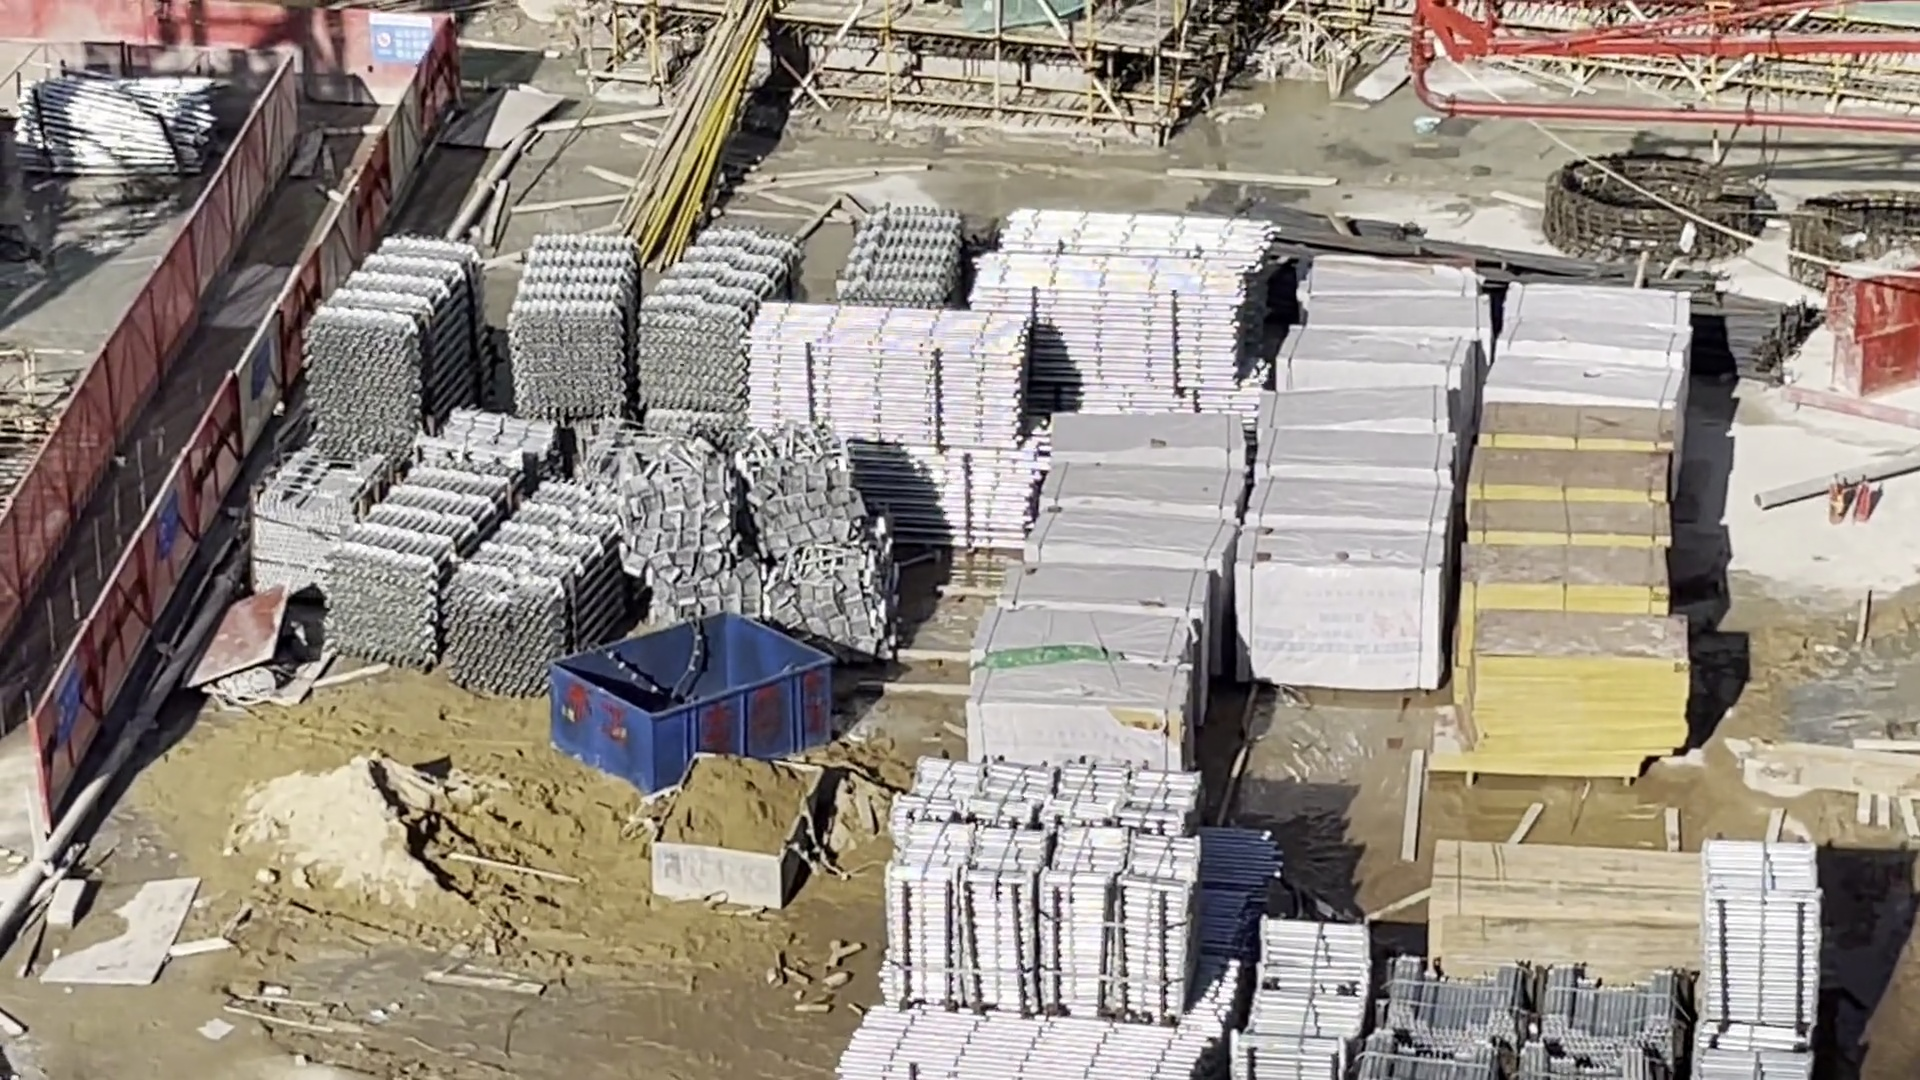board: (1461, 404, 1683, 791), (1431, 839, 1695, 968)
fence: (13, 65, 407, 785), (3, 1, 371, 108)
hopper: (550, 611, 832, 793), (655, 749, 819, 913)
rebar: (1282, 210, 1804, 380)
scaffold: (891, 752, 1189, 1022), (746, 307, 1042, 556), (343, 468, 617, 683), (978, 215, 1269, 414), (516, 231, 793, 419), (1367, 953, 1693, 1079), (309, 243, 488, 448), (1691, 847, 1821, 1077), (833, 1007, 1203, 1080), (1229, 916, 1362, 1080), (24, 84, 219, 177), (848, 216, 963, 315)
slogan: (367, 12, 435, 69), (54, 661, 79, 738), (156, 485, 178, 551)
